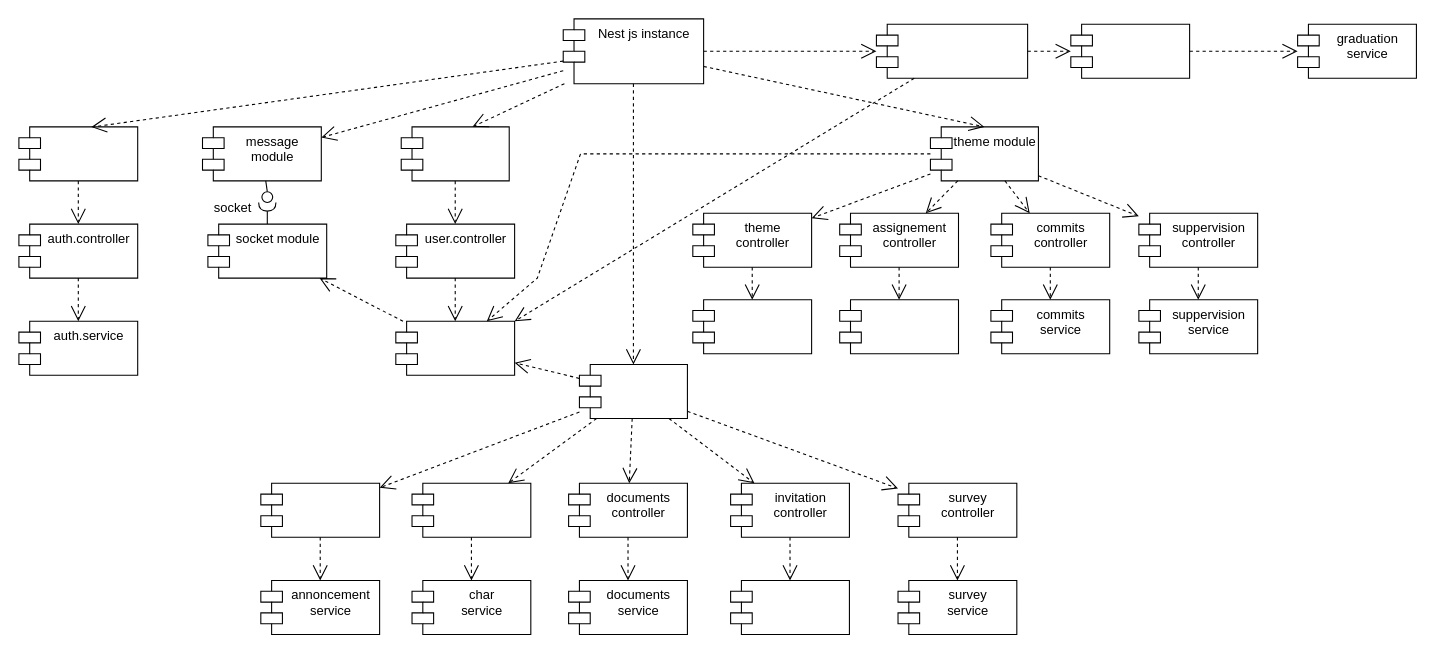
Image size: 1435x653. Some labels were removed from this diagram. The centre of each missing label's shape, as x and y in pixels:
"announcement controller" belongs at (320,509).
"assignements service" belongs at (899,326).
"auth module" belongs at (78,153).
"chat controller" belongs at (471,509).
"graduation controller" belongs at (1130,50).
"Graduation module" belongs at (951,50).
"invitation service" belongs at (789,606).
"team module" belongs at (632,390).
"theme service" belongs at (752,326).
"user module" belongs at (454,153).
"user.service" belongs at (455,347).
